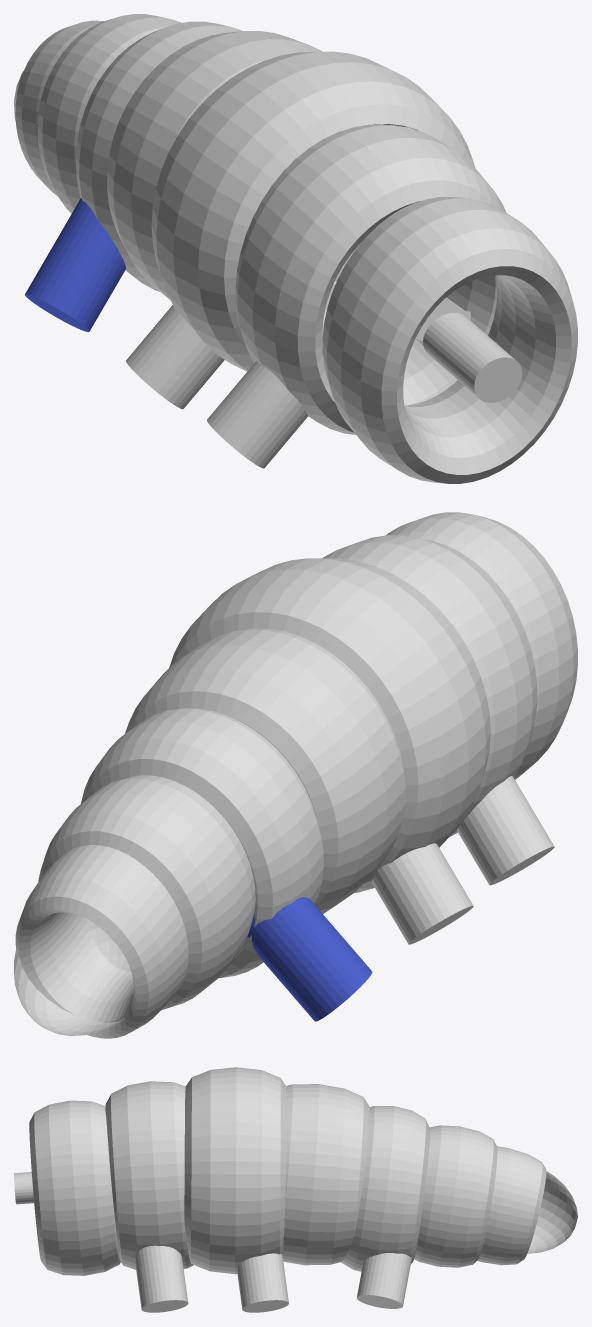
File: tardigrade.glb
3 views of the same model, one above another, from view 1: azimuth 30°, elevation 25°; view 2: azimuth 150°, elevation 25°; view 3: azimuth 270°, elevation 25° (orthographic). The views are drawn at different scales.
Visible parts, largest first — view 1: Torus.003, Torus, Torus.001, Torus.004, Torus.007, Torus.006, Cylinder.002, Cylinder.006, Cylinder.005, Cylinder, Torus.008, Cylinder.001; view 2: Torus, Torus.004, Torus.008, Torus.006, Torus.007, Torus.001, Torus.003, Cylinder.002, Cylinder.005, Cylinder.006, Sphere; view 3: Torus, Torus.004, Torus.003, Torus.001, Torus.006, Torus.007, Torus.008, Cylinder.001, Cylinder.003, Cylinder.004, Sphere, Cylinder.
Part boxes in pixels (<box>): Torus.003: <box>322,197,577,483</box>; Torus: <box>151,51,475,371</box>; Torus.001: <box>235,124,506,434</box>; Torus.004: <box>107,31,336,299</box>; Torus.007: <box>37,14,181,213</box>; Torus.006: <box>76,21,242,291</box>; Cylinder.002: <box>25,198,125,332</box>; Cylinder.006: <box>207,323,323,468</box>; Cylinder.005: <box>126,305,224,409</box>; Cylinder: <box>423,312,522,402</box>; Torus.008: <box>15,20,103,196</box>; Cylinder.001: <box>415,297,470,345</box>; Torus: <box>169,558,490,892</box>; Torus.004: <box>125,628,405,913</box>; Torus.008: <box>15,845,188,1038</box>; Torus.006: <box>81,708,323,978</box>; Torus.007: <box>38,775,255,1009</box>; Torus.001: <box>322,535,537,836</box>; Torus.003: <box>386,512,577,779</box>; Cylinder.002: <box>247,897,372,1021</box>; Cylinder.005: <box>372,843,473,944</box>; Cylinder.006: <box>457,776,554,885</box>; Sphere: <box>14,918,131,1035</box>; Torus: <box>184,1067,286,1274</box>; Torus.004: <box>282,1084,369,1265</box>; Torus.003: <box>29,1100,120,1275</box>; Torus.001: <box>105,1081,193,1269</box>; Torus.006: <box>341,1106,429,1271</box>; Torus.007: <box>414,1125,497,1267</box>; Torus.008: <box>477,1146,546,1265</box>; Cylinder.001: <box>134,1245,188,1312</box>; Cylinder.003: <box>236,1253,288,1312</box>; Cylinder.004: <box>357,1253,411,1308</box>; Sphere: <box>527,1171,577,1253</box>; Cylinder: <box>14,1172,33,1204</box>.
Size of the model in its own units: 2.48 by 2.44 by 6.12.
